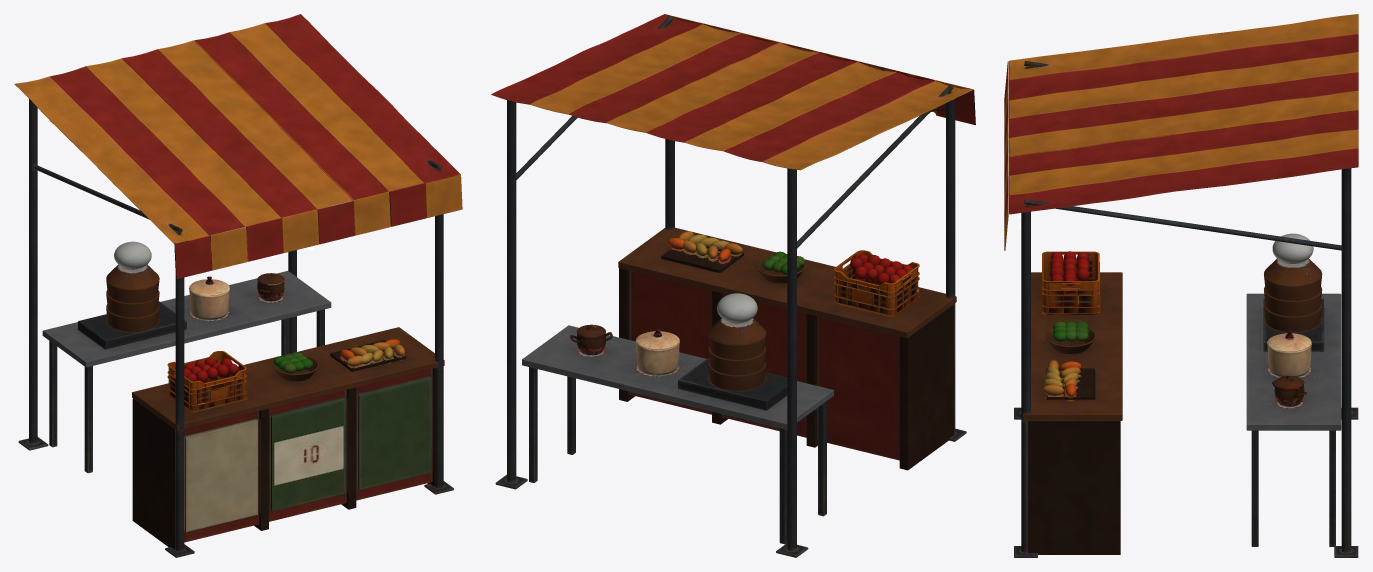
The model's file is food_stall.glb.
3 renders of one model, left to right at view 1: azimuth 30°, elevation 25°; view 2: azimuth 150°, elevation 25°; view 3: azimuth 270°, elevation 25°, orthographic. The views are drawn at different scales.
Parts seen in each view (by area): view 1: food_stall; view 2: food_stall; view 3: food_stall.
Boxes of the visible parts, x1,y1,x2,y2 form: food_stall: [14, 14, 462, 557]; food_stall: [491, 14, 975, 557]; food_stall: [1004, 14, 1358, 557].
Size of the model in its own units: 2.1 by 2.52 by 2.06.
Materials: 3 (3 with a texture image).
